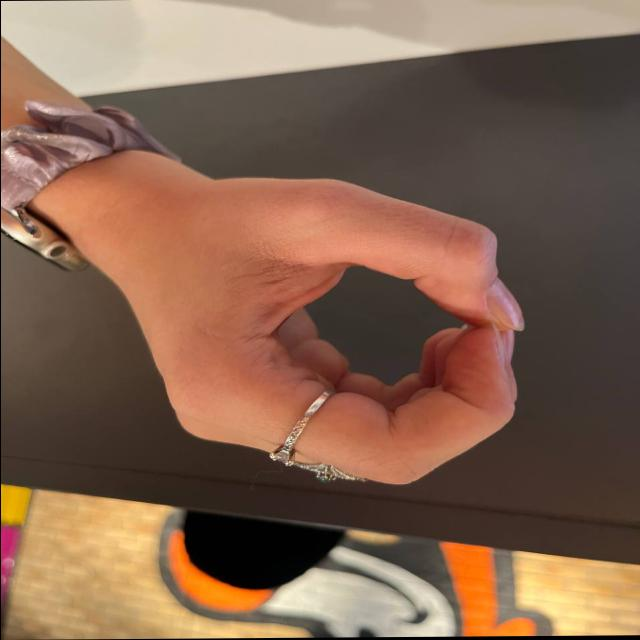e: (116, 147, 542, 494)
